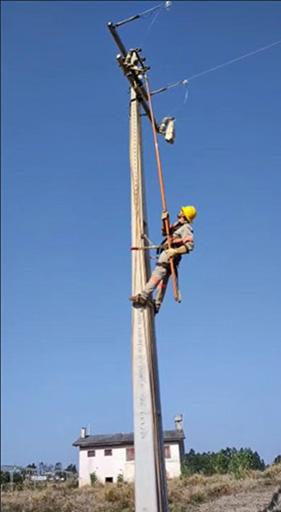Vara_Manobra: (142, 77, 177, 302)
